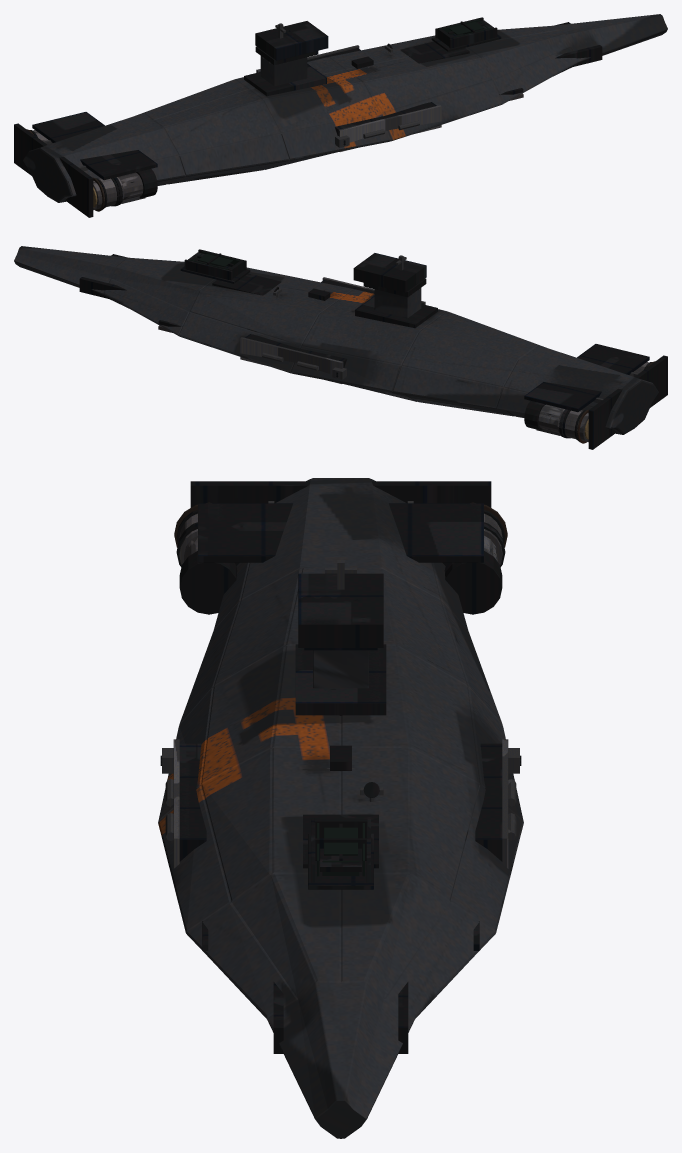
File: warden_production_v1_lod2.glb
The picture shows the model from 3 angles, top to bottom: view 1: azimuth 30°, elevation 25°; view 2: azimuth 150°, elevation 25°; view 3: azimuth 270°, elevation 25°; orthographic projection. The views are drawn at different scales.
Parts seen in each view (by area): view 1: LOD2_Hull, LOD2_Armor, LOD2_Mechanical, LOD2_Canopy; view 2: LOD2_Hull, LOD2_Armor, LOD2_Mechanical, LOD2_Canopy; view 3: LOD2_Hull, LOD2_Armor, LOD2_Mechanical, LOD2_Canopy.
Part boxes in pixels (bbox=[...]): LOD2_Hull: bbox=[23, 14, 667, 202]; LOD2_Armor: bbox=[14, 17, 602, 217]; LOD2_Mechanical: bbox=[33, 23, 523, 209]; LOD2_Canopy: bbox=[442, 19, 491, 37]; LOD2_Hull: bbox=[14, 246, 658, 434]; LOD2_Armor: bbox=[79, 249, 667, 449]; LOD2_Mechanical: bbox=[158, 255, 648, 441]; LOD2_Canopy: bbox=[190, 251, 239, 269]; LOD2_Hull: bbox=[158, 478, 523, 1138]; LOD2_Armor: bbox=[176, 481, 505, 1053]; LOD2_Mechanical: bbox=[162, 501, 519, 868]; LOD2_Canopy: bbox=[317, 823, 364, 876].
Size of what is drawn, in the model's own units: 19.36 by 3.89 by 4.99.
Materials: 8 (8 with a texture image).
